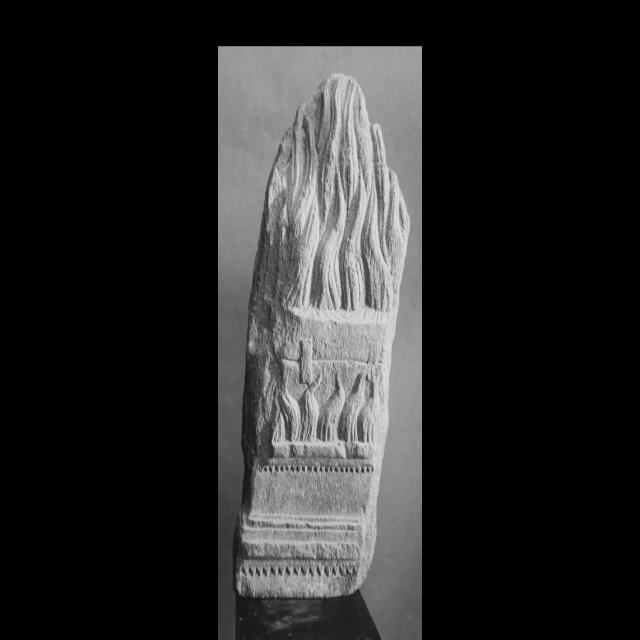buddha-pyre: (232, 73, 410, 598)
